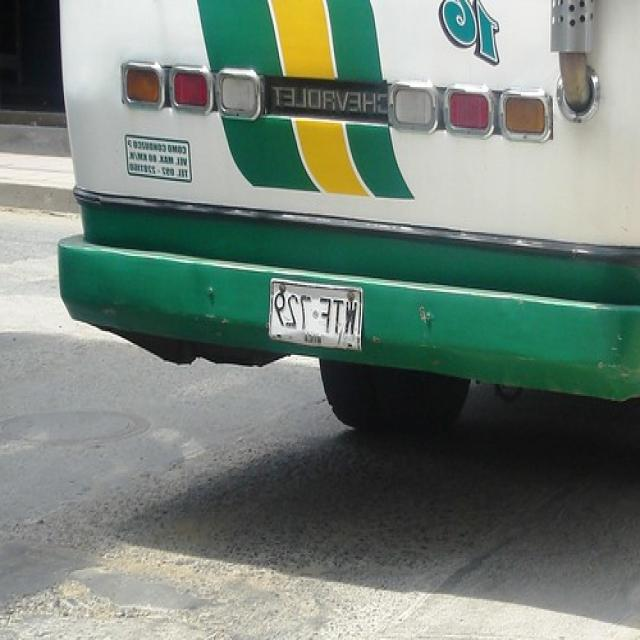placas: (269, 285, 361, 338)
